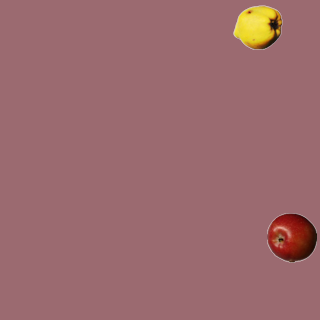Apple Braeburn: (266, 212, 316, 262)
Quince: (232, 2, 282, 52)
